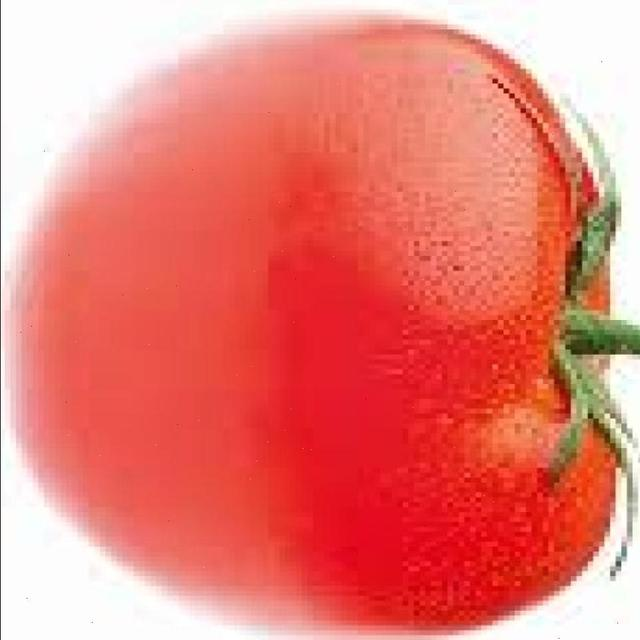Healthy Fruit: (8, 20, 425, 427)
